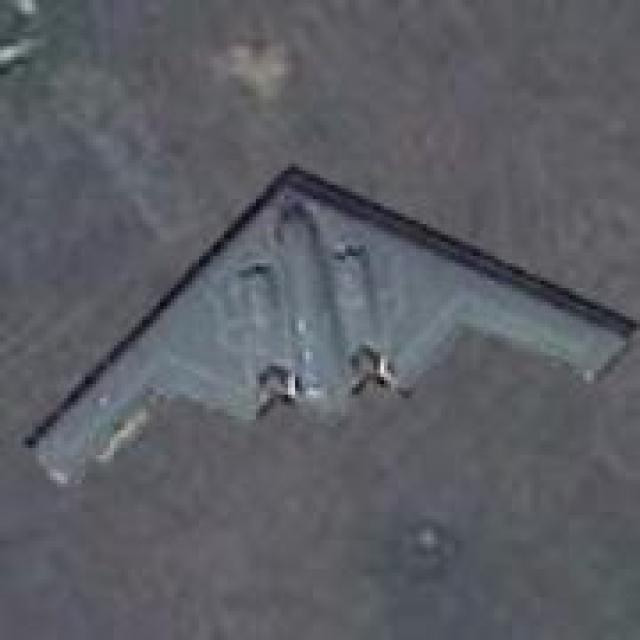B-2_TopDown: (18, 160, 636, 491)
